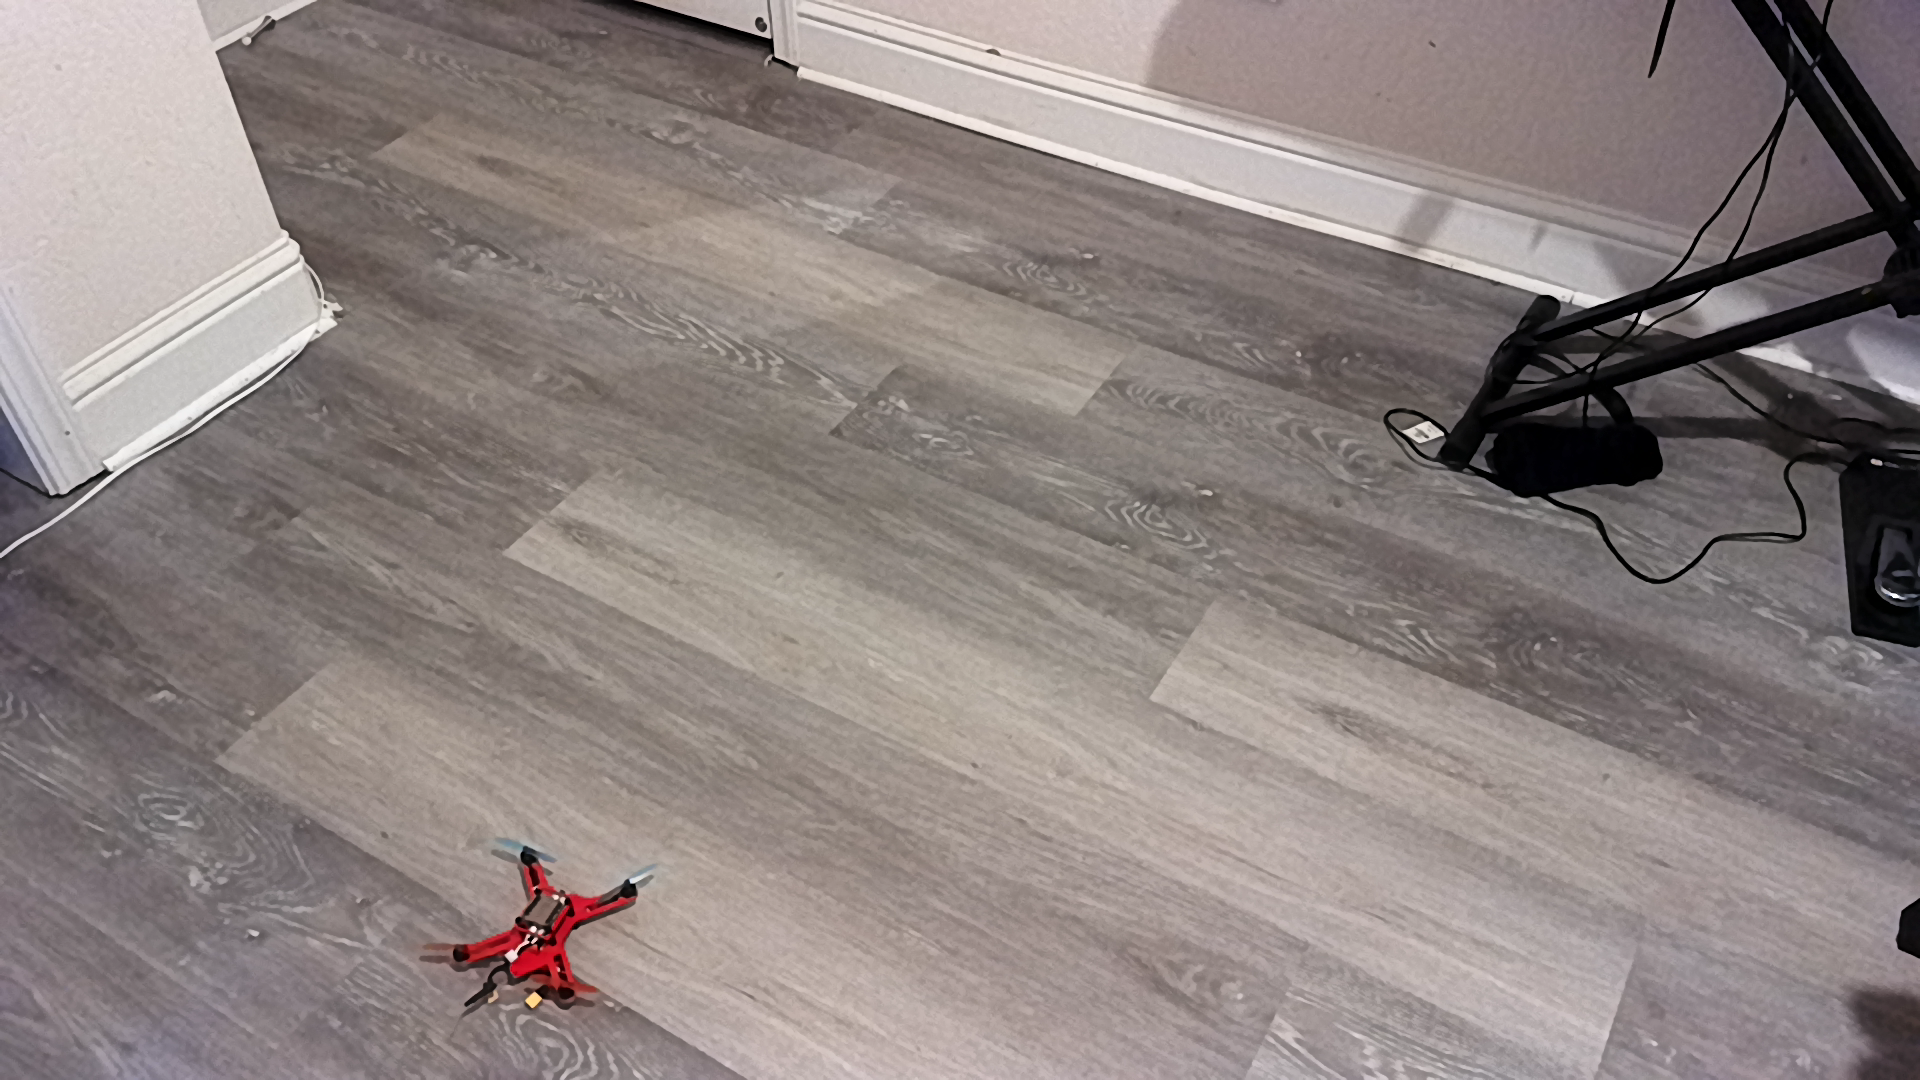drone: (411, 835, 683, 1029)
